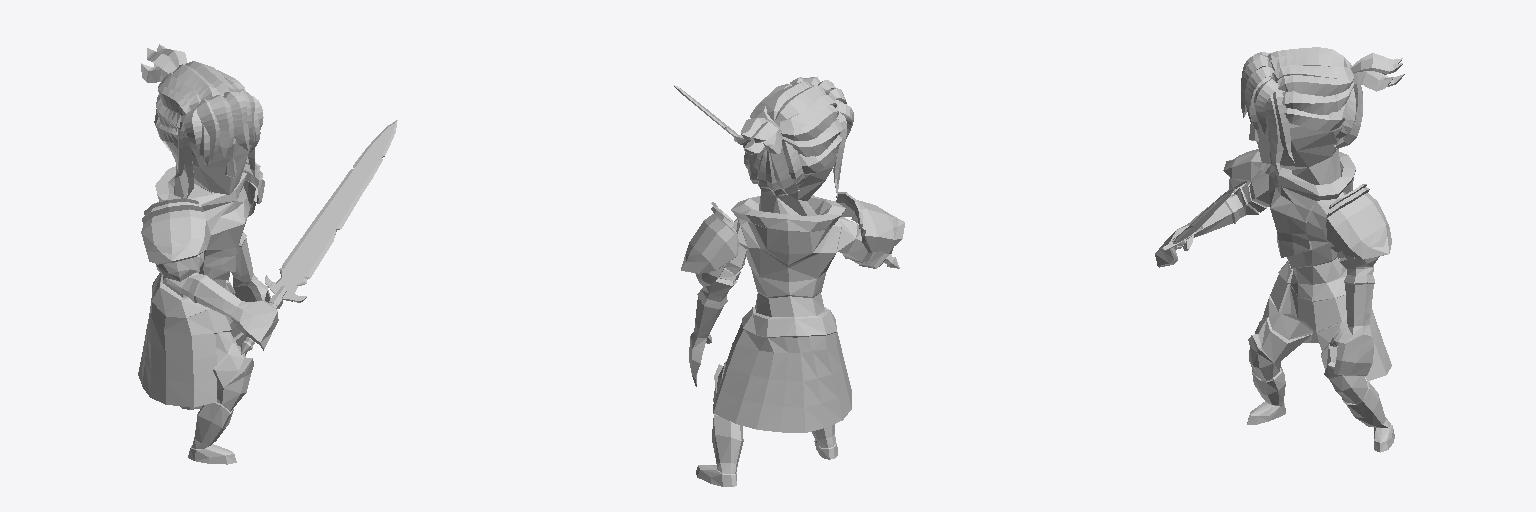
3 views of the same model, side by side, from view 1: azimuth 30°, elevation 25°; view 2: azimuth 150°, elevation 25°; view 3: azimuth 270°, elevation 25° (orthographic).
Parts seen in each view (by area): view 1: Warrior.002__ncl1_29.005, Face__ncl1_29.002, Warrior_Sword_Cylinder.001, Shoulder.R__ncl1_29.001, Shoulder.L__ncl1_29.000; view 2: Warrior.002__ncl1_29.005, Face__ncl1_29.002, Shoulder.L__ncl1_29.000, Shoulder.R__ncl1_29.001; view 3: Warrior.002__ncl1_29.005, Face__ncl1_29.002, Shoulder.L__ncl1_29.000, Shoulder.R__ncl1_29.001, Warrior_Sword_Cylinder.001.
Part boxes in pixels (left/top/right/bottom): Warrior.002__ncl1_29.005: left=138, top=116, right=278, bottom=464; Face__ncl1_29.002: left=141, top=44, right=263, bottom=197; Warrior_Sword_Cylinder.001: left=241, top=120, right=397, bottom=354; Shoulder.R__ncl1_29.001: left=141, top=197, right=210, bottom=281; Shoulder.L__ncl1_29.000: left=243, top=157, right=264, bottom=216; Warrior.002__ncl1_29.005: left=689, top=154, right=889, bottom=486; Face__ncl1_29.002: left=734, top=77, right=853, bottom=196; Shoulder.L__ncl1_29.000: left=681, top=202, right=738, bottom=286; Shoulder.R__ncl1_29.001: left=836, top=192, right=904, bottom=253; Warrior.002__ncl1_29.005: left=1155, top=111, right=1394, bottom=452; Face__ncl1_29.002: left=1241, top=47, right=1404, bottom=175; Shoulder.L__ncl1_29.000: left=1326, top=184, right=1391, bottom=266; Shoulder.R__ncl1_29.001: left=1223, top=149, right=1269, bottom=192; Warrior_Sword_Cylinder.001: left=1162, top=188, right=1233, bottom=250.
Size of the model in its own units: 1.87 by 2.82 by 1.72.